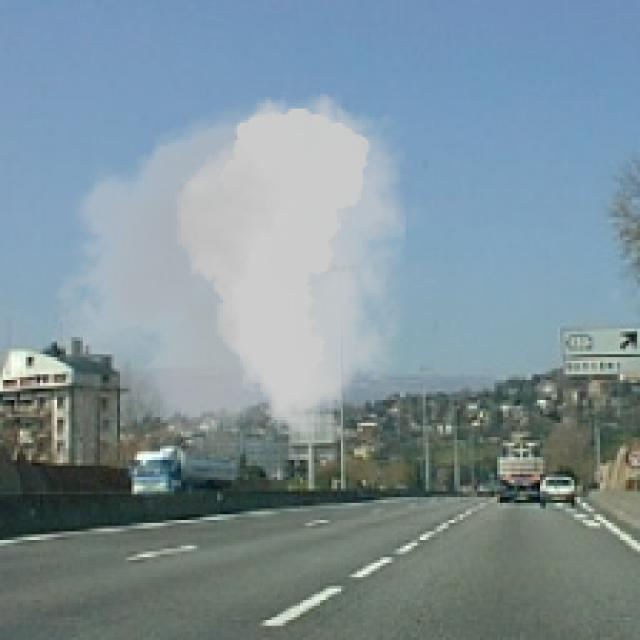Smoke: (32, 82, 437, 458)
